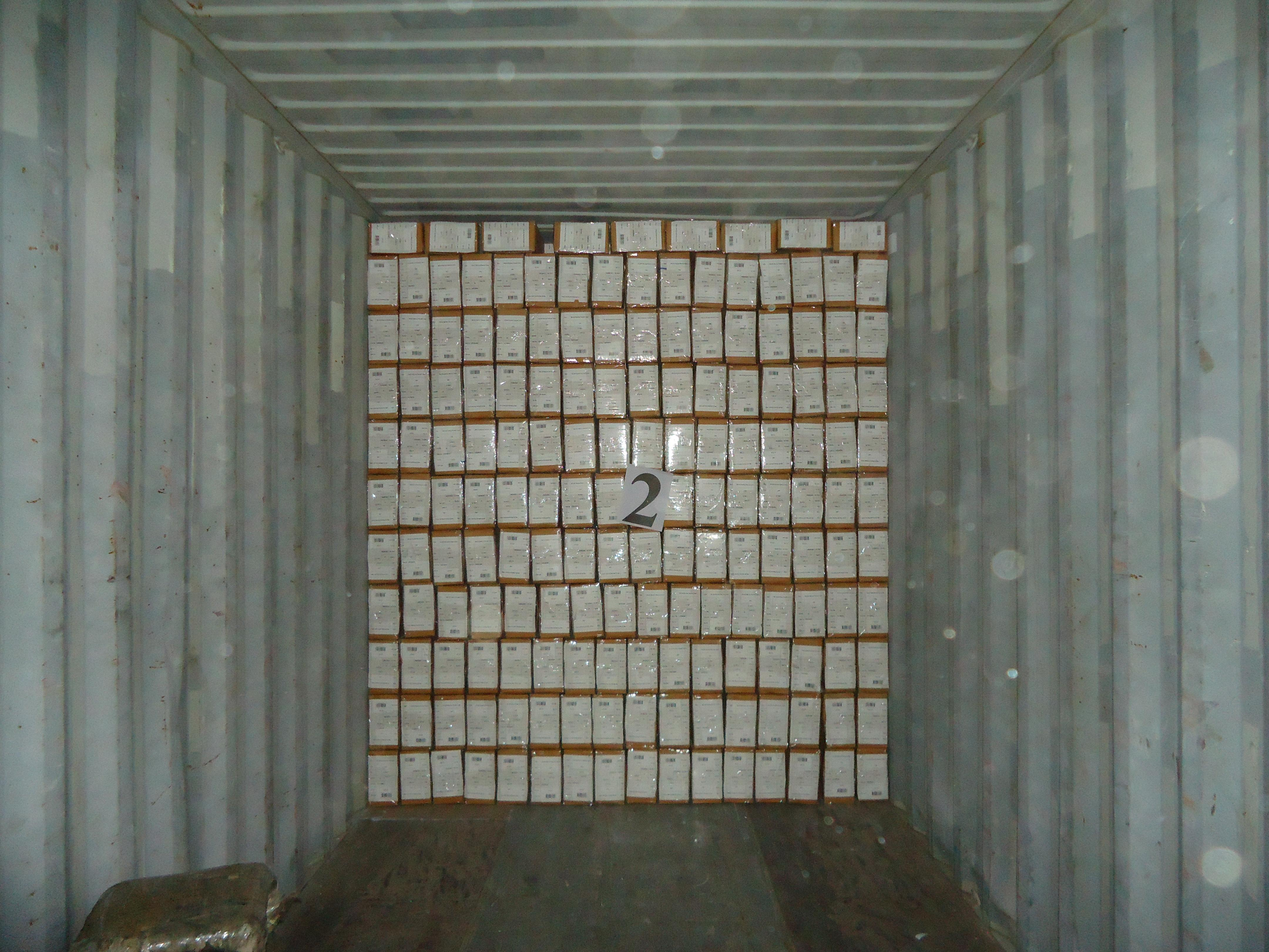carton: (728, 527, 764, 583), (823, 692, 858, 749), (401, 583, 437, 638), (658, 251, 693, 307), (725, 253, 760, 309), (464, 527, 498, 584), (498, 527, 532, 584), (855, 252, 889, 309), (557, 252, 592, 307), (399, 694, 434, 749), (429, 363, 464, 418), (602, 583, 637, 638), (562, 361, 597, 416), (431, 529, 465, 585), (561, 472, 595, 528), (494, 307, 528, 363), (462, 307, 496, 363), (692, 252, 726, 308), (529, 418, 564, 472), (528, 363, 563, 417), (429, 254, 464, 308), (560, 308, 595, 362), (661, 417, 696, 471), (553, 221, 610, 254), (400, 638, 434, 693), (432, 419, 466, 474), (464, 418, 498, 473), (368, 221, 423, 255), (399, 418, 433, 473), (433, 694, 467, 749), (595, 472, 629, 527), (691, 692, 725, 747), (596, 527, 630, 582), (731, 583, 765, 638), (625, 251, 659, 306), (399, 309, 433, 364), (793, 527, 827, 582), (826, 527, 860, 582), (636, 582, 670, 637), (759, 363, 793, 418), (793, 362, 827, 417), (657, 748, 691, 803), (462, 363, 496, 418), (761, 528, 795, 583), (367, 474, 401, 529), (821, 750, 856, 803), (593, 363, 628, 416), (824, 638, 859, 691), (368, 693, 401, 749), (776, 218, 832, 251), (625, 693, 658, 749), (528, 307, 561, 363), (531, 527, 564, 583), (759, 252, 792, 308), (563, 417, 597, 471), (591, 253, 625, 307), (503, 584, 537, 638), (431, 475, 465, 529), (431, 749, 465, 803), (469, 585, 503, 639), (693, 363, 727, 417), (794, 583, 828, 637), (826, 582, 860, 636), (494, 363, 528, 417), (625, 307, 659, 361), (855, 308, 889, 362), (757, 309, 791, 363), (593, 308, 627, 362), (626, 638, 660, 692), (664, 219, 721, 251), (497, 749, 530, 804), (497, 418, 530, 473), (497, 693, 530, 748), (658, 692, 691, 747), (530, 749, 563, 804), (658, 307, 691, 362), (431, 309, 464, 364), (563, 528, 596, 583), (825, 417, 858, 472), (825, 362, 858, 417), (691, 748, 724, 803), (789, 693, 822, 748), (823, 307, 856, 362), (669, 583, 702, 638), (791, 251, 824, 306), (630, 472, 663, 527), (496, 474, 530, 527), (466, 640, 500, 693), (367, 311, 401, 364), (726, 364, 760, 417), (661, 528, 695, 581), (480, 221, 538, 252), (466, 693, 498, 749), (857, 690, 889, 746), (593, 693, 625, 749), (561, 693, 593, 749), (755, 747, 787, 803), (793, 417, 825, 473), (663, 472, 695, 528), (792, 306, 824, 362), (424, 221, 478, 254), (610, 219, 664, 252), (857, 527, 890, 581), (464, 750, 497, 804), (857, 472, 890, 526), (368, 419, 401, 473), (525, 253, 558, 307), (725, 639, 758, 693), (695, 418, 728, 472), (757, 639, 790, 693), (461, 253, 494, 307), (628, 362, 661, 416), (594, 750, 627, 804), (537, 584, 570, 638), (725, 693, 758, 747), (691, 308, 724, 362), (493, 253, 526, 307), (399, 474, 432, 528), (661, 362, 694, 416), (532, 639, 565, 693), (571, 584, 604, 638), (563, 640, 596, 694), (758, 474, 791, 528), (695, 529, 728, 583), (756, 695, 790, 747), (400, 528, 432, 583), (529, 693, 561, 748), (368, 364, 400, 419), (399, 364, 431, 419), (857, 362, 889, 417), (563, 749, 595, 804), (723, 748, 755, 803), (824, 252, 856, 307), (792, 472, 824, 527), (857, 418, 890, 471), (433, 641, 466, 694), (788, 750, 821, 803), (399, 255, 432, 308), (597, 418, 630, 471), (437, 585, 470, 638), (724, 310, 757, 363), (725, 474, 758, 527), (500, 639, 533, 692), (630, 418, 663, 471), (368, 584, 399, 640), (763, 584, 795, 638), (400, 750, 432, 804), (529, 473, 561, 527), (761, 418, 793, 472), (627, 749, 659, 803), (729, 418, 761, 472), (694, 473, 726, 527), (824, 473, 856, 527), (464, 475, 497, 527), (691, 639, 724, 691), (368, 749, 398, 806), (721, 222, 776, 253), (367, 529, 398, 584), (701, 583, 732, 638), (660, 638, 691, 693), (368, 640, 400, 693), (857, 582, 889, 635), (366, 257, 398, 310), (630, 529, 662, 582), (832, 221, 886, 252), (792, 638, 823, 692), (858, 636, 889, 690), (596, 639, 627, 693), (857, 749, 889, 801)
